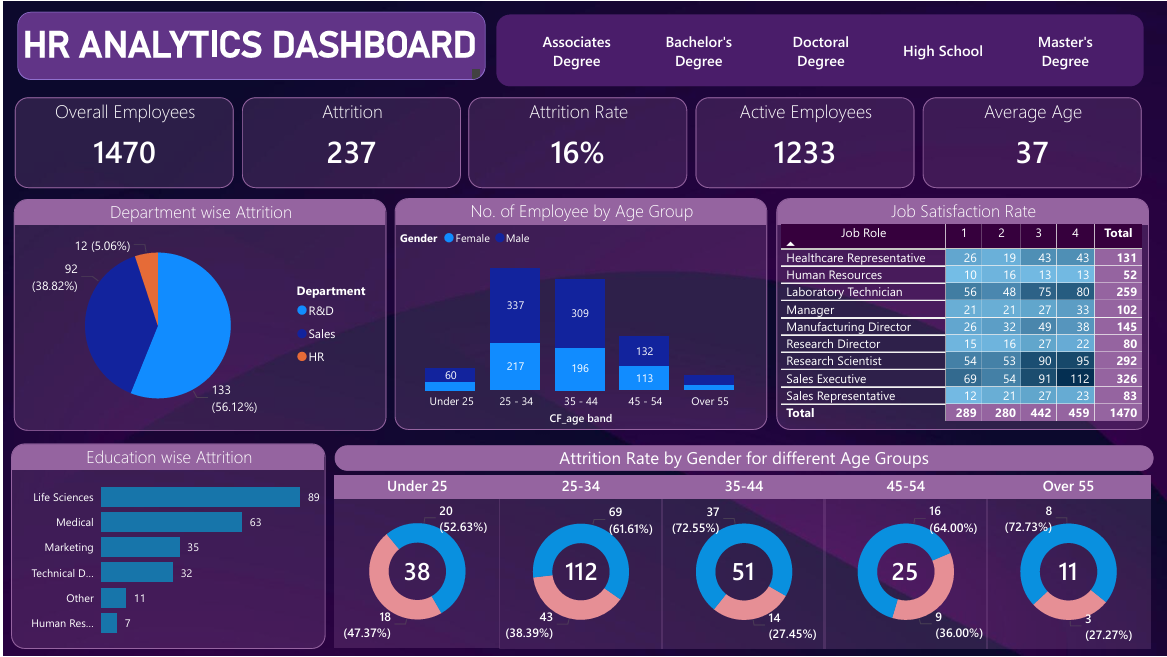

The dashboard page shown, as its layout file describes it:
{"tool":"powerbi","page":{"name":"Page 1","canvas":[1280,720],"ordinal":0},"visuals":[{"type":"card","title":"Overall Employees","fields":{"Values":["Sum(HR data.Employee Count)"]},"box":[11.9,105,241,100],"z":0},{"type":"card","title":"Attrition","fields":{"Values":["Sum(HR data.Attrition Count)"]},"box":[262.4,105,241,100],"z":1000},{"type":"card","title":"Attrition Rate","fields":{"Values":["HR data.Attrition Rate"]},"box":[511.5,105,241,100],"z":2000},{"type":"card","title":"Active Employees","fields":{"Values":["HR data.Active Employee"]},"box":[761.1,105,241,100],"z":3000},{"type":"card","title":"Average Age","fields":{"Values":["Avg(HR data.Age)"]},"box":[1011,105,241,100],"z":4000},{"type":"pieChart","title":"Department wise Attrition","fields":{"Y":["Sum(HR data.Attrition Count)"],"Category":["HR data.Department"]},"box":[10.9,217,410,255],"z":5000},{"type":"columnChart","title":"No. of Employee by Age Group","fields":{"Category":["HR data.CF_age band"],"Y":["Sum(HR data.Employee Count)"],"Series":["HR data.Gender"]},"box":[429.9,216.5,410,255],"z":6000},{"type":"pivotTable","title":"Job Satisfaction Rate","fields":{"Rows":["HR data.Job Role"],"Columns":["HR data.Job Satisfaction"],"Values":["Sum(HR data.Employee Count)"]},"box":[849.9,215.6,410,255],"z":7000},{"type":"barChart","title":"Education wise Attrition","fields":{"Category":["HR data.Education Field"],"Y":["Sum(HR data.Attrition Count)"]},"box":[8.2,485.7,346.2,226],"z":8000},{"type":"donutChart","title":"Under 25","fields":{"Category":["HR data.Gender"],"Y":["Sum(HR data.Attrition Count)"],"Series":["HR data.CF_age band"]},"box":[364.3,521.3,181.6,189.8],"z":9000},{"type":"textbox","box":[364.1,488,900.6,28],"z":10000},{"type":"donutChart","title":"25-34","fields":{"Category":["HR data.Gender"],"Y":["Sum(HR data.Attrition Count)"],"Series":["HR data.CF_age band"]},"box":[544.7,521.5,180.7,190.2],"z":11000},{"type":"donutChart","title":"35-44","fields":{"Category":["HR data.Gender"],"Y":["Sum(HR data.Attrition Count)"],"Series":["HR data.CF_age band"]},"box":[724,521.5,180.7,190.2],"z":12000},{"type":"donutChart","title":"45-54","fields":{"Category":["HR data.Gender"],"Y":["Sum(HR data.Attrition Count)"],"Series":["HR data.CF_age band"]},"box":[901.9,521.5,180.7,190.2],"z":13000},{"type":"donutChart","title":"Over 55","fields":{"Category":["HR data.Gender"],"Y":["Sum(HR data.Attrition Count)"],"Series":["HR data.CF_age band"]},"box":[1081.2,521.5,180.7,190.2],"z":14000},{"type":"card","fields":{"Values":["Sum(HR data.Attrition Count)"]},"box":[430.6,610.2,47.2,33.7],"z":15000},{"type":"card","fields":{"Values":["Sum(HR data.Attrition Count)"]},"box":[611.5,610.2,47.2,33.7],"z":16000},{"type":"card","fields":{"Values":["Sum(HR data.Attrition Count)"]},"box":[1147.4,610.2,47.2,33.7],"z":17000},{"type":"card","fields":{"Values":["Sum(HR data.Attrition Count)"]},"box":[967.9,610.2,47.2,33.7],"z":18000},{"type":"card","fields":{"Values":["Sum(HR data.Attrition Count)"]},"box":[789.7,610.2,47.2,33.7],"z":19000},{"type":"textbox","title":"HR ANALYTICS DASHBOARD","box":[15.2,10.5,515.2,75],"z":20000},{"type":"slicer","fields":{"Values":["HR data.Education"]},"box":[542.4,14.1,711.2,78.5],"z":21000}]}

Visuals, with their boxes in screenshot pixels (x1, y1, x2, y2), scaled from the page's 1280x720 canvas onto the 1167x657 screenshot:
"Overall Employees" card: l=11, t=96, r=231, b=187
"Attrition" card: l=239, t=96, r=459, b=187
"Attrition Rate" card: l=466, t=96, r=686, b=187
"Active Employees" card: l=694, t=96, r=914, b=187
"Average Age" card: l=922, t=96, r=1141, b=187
"Department wise Attrition" pieChart: l=10, t=198, r=384, b=431
"No. of Employee by Age Group" columnChart: l=392, t=198, r=766, b=430
"Job Satisfaction Rate" pivotTable: l=775, t=197, r=1149, b=429
"Education wise Attrition" barChart: l=7, t=443, r=323, b=649
"Under 25" donutChart: l=332, t=476, r=498, b=649
textbox: l=332, t=445, r=1153, b=471
"25-34" donutChart: l=497, t=476, r=661, b=649
"35-44" donutChart: l=660, t=476, r=825, b=649
"45-54" donutChart: l=822, t=476, r=987, b=649
"Over 55" donutChart: l=986, t=476, r=1150, b=649
card - Sum(HR data.Attrition Count): l=393, t=557, r=436, b=588
card - Sum(HR data.Attrition Count): l=558, t=557, r=601, b=588
card - Sum(HR data.Attrition Count): l=1046, t=557, r=1089, b=588
card - Sum(HR data.Attrition Count): l=882, t=557, r=925, b=588
card - Sum(HR data.Attrition Count): l=720, t=557, r=763, b=588
"HR ANALYTICS DASHBOARD" textbox: l=14, t=10, r=484, b=78
slicer - HR data.Education: l=495, t=13, r=1143, b=84
